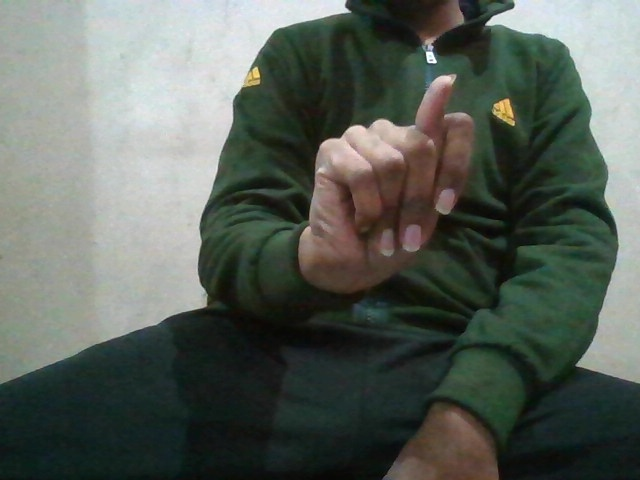T: (304, 72, 476, 287)
